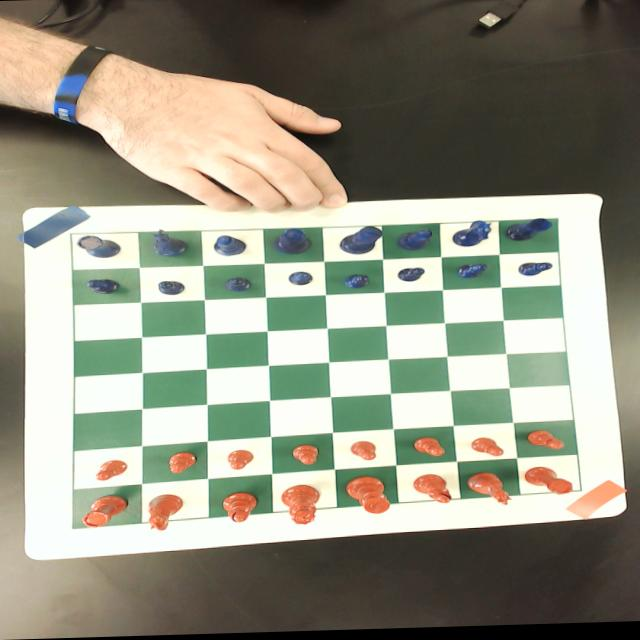B: (397, 229, 433, 252), (212, 235, 248, 257)
K: (339, 228, 383, 257)
N: (452, 222, 494, 249), (152, 229, 191, 257)
P: (86, 278, 120, 295), (454, 265, 490, 281), (517, 264, 554, 279), (396, 268, 426, 284), (156, 280, 186, 296), (286, 271, 314, 287), (225, 277, 252, 293), (344, 275, 370, 290)
Q: (275, 229, 311, 256)
R: (76, 231, 122, 258), (507, 219, 552, 244)
b: (413, 475, 453, 506), (221, 493, 257, 523)
cb: (71, 221, 582, 528)
k: (346, 477, 390, 516)
n: (467, 474, 513, 508), (147, 493, 185, 532)
p: (526, 432, 566, 453), (94, 459, 129, 480), (471, 439, 505, 460), (168, 451, 198, 474), (413, 439, 447, 459), (292, 445, 320, 467), (228, 450, 255, 471), (350, 442, 378, 462)
q: (280, 485, 320, 526)
r: (81, 494, 129, 528), (524, 468, 574, 498)
